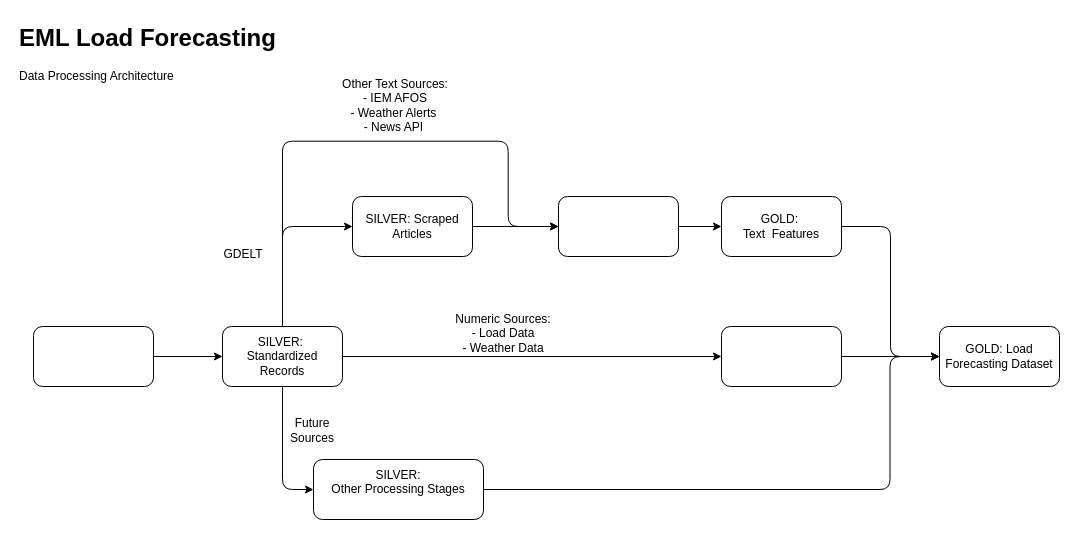
This 1077x537 diagram has some shape labels left out. The box of each missing label's shape, as (x1, y1, x2, y2) in pixels:
BRONZE: Raw Records: (32, 326, 154, 386)
GOLD: Embeddings: (558, 196, 678, 256)
GOLD: Numeric Features: (720, 326, 842, 386)
